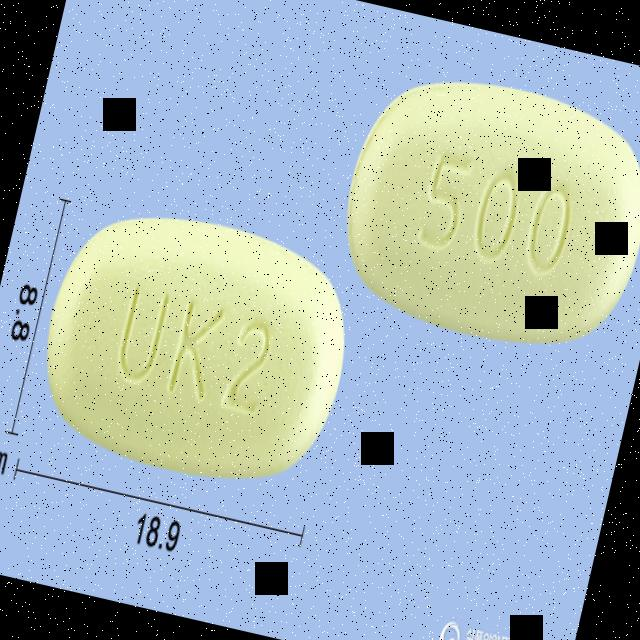Clazin: (20, 188, 370, 506), (324, 55, 640, 366)
